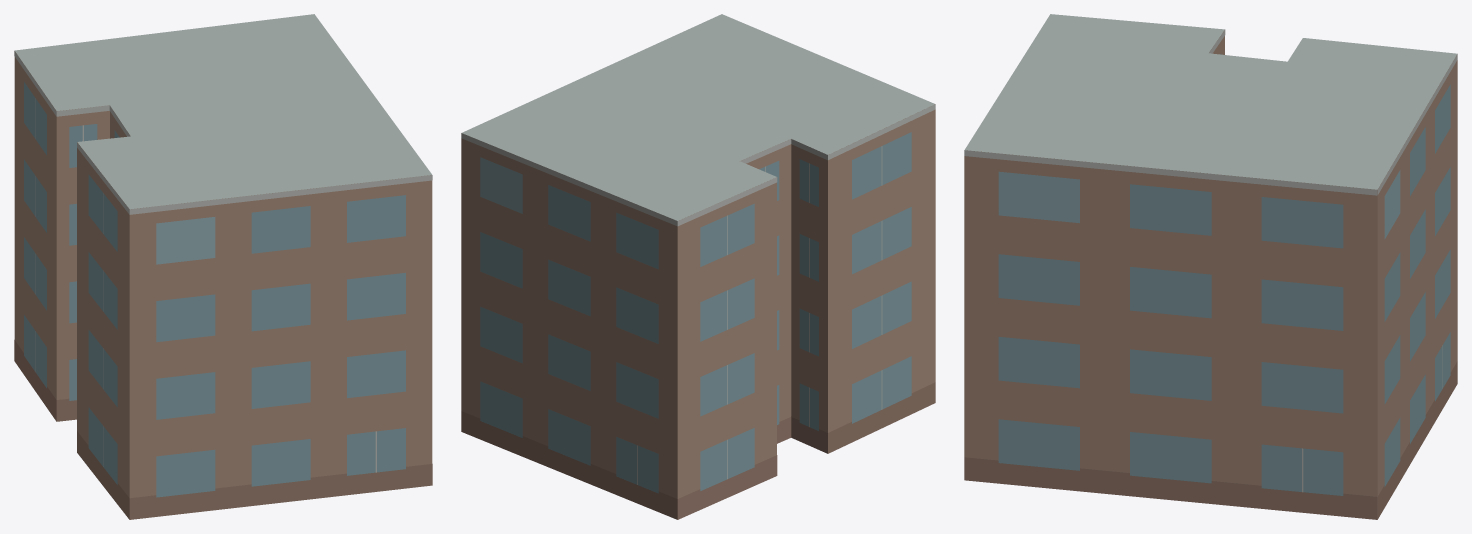
File: survey-upis-32998536.glb
3 views of the same model, side by side, from view 1: azimuth 30°, elevation 25°; view 2: azimuth 150°, elevation 25°; view 3: azimuth 270°, elevation 25° (orthographic). The views are drawn at different scales.
Parts seen in each view (by area): view 1: survey-upis-32998536.tmp; view 2: survey-upis-32998536.tmp; view 3: survey-upis-32998536.tmp.
Boxes of the visible parts, <box> form: survey-upis-32998536.tmp: <box>14,14,432,519</box>; survey-upis-32998536.tmp: <box>461,14,935,519</box>; survey-upis-32998536.tmp: <box>964,14,1457,519</box>.
Size of the model in its own units: 15.53 by 13.6 by 18.42.
